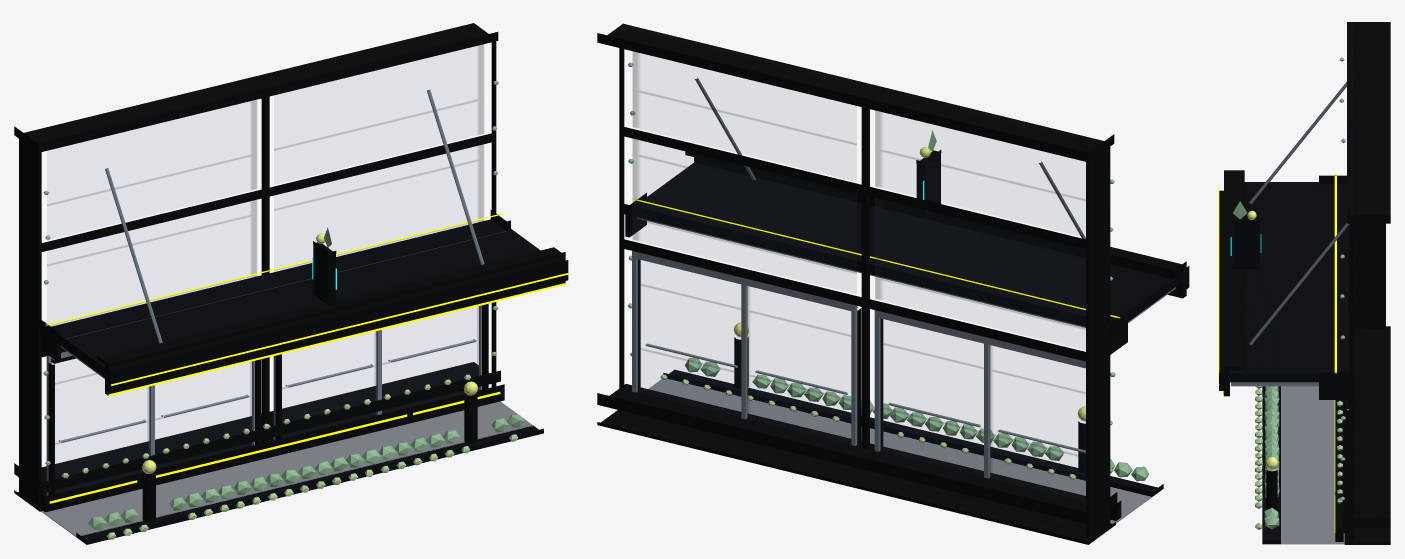
File: v4_green.glb
3 views of the same model, side by side, from view 1: azimuth 30°, elevation 25°; view 2: azimuth 150°, elevation 25°; view 3: azimuth 270°, elevation 25° (orthographic). The views are drawn at different scales.
Visible parts, largest first — view 1: Frame, Canopy, Fascia_Gunmetal, Threshold_Mat, Hedge_Edge, Terrace_Kerb, Fascia_Slate, Court_Line_LED, Door_Stiles, Tie_Rods, Glass_Upper_00, Glass_Upper_10 (+8 smaller); view 2: Frame, Canopy, Door_Stiles, Threshold_Mat, Terrace_Kerb, Hedge_Edge, Fascia_Slate, Fascia_Gunmetal, Glass_Upper_10, Glass_Upper_00, Glass_Upper_11, Glass_Upper_01 (+10 smaller); view 3: Frame, Canopy, Threshold_Mat, Fascia_Gunmetal, Hedge_Edge, Terrace_Kerb, Tie_Rods, Blade_Core, Court_Line_LED, Hedge_Edge_Light, Ball_Bollards, Canopy_Soffit (+3 smaller).
Boxes of the visible parts, x1,y1,x2,y2 form: Frame: (14, 23, 504, 512); Canopy: (39, 210, 540, 377); Fascia_Gunmetal: (96, 247, 568, 391); Threshold_Mat: (41, 401, 533, 536); Hedge_Edge: (88, 414, 524, 530); Terrace_Kerb: (76, 425, 543, 544); Fascia_Slate: (105, 255, 565, 395); Court_Line_LED: (45, 213, 568, 396); Door_Stiles: (46, 305, 481, 495); Tie_Rods: (105, 89, 484, 343); Glass_Upper_00: (47, 200, 256, 325); Glass_Upper_10: (274, 144, 483, 270); Frame: (597, 23, 1121, 544); Canopy: (624, 162, 1182, 354); Door_Stiles: (632, 251, 1085, 478); Threshold_Mat: (648, 379, 1152, 523); Terrace_Kerb: (663, 369, 1163, 496); Hedge_Edge: (685, 357, 1148, 481); Fascia_Slate: (694, 157, 1186, 298); Fascia_Gunmetal: (685, 151, 1189, 288); Glass_Upper_10: (632, 139, 856, 273); Glass_Upper_00: (875, 198, 1085, 330); Glass_Upper_11: (632, 51, 856, 145); Glass_Upper_01: (875, 111, 1085, 201); Frame: (1335, 22, 1390, 544); Canopy: (1229, 175, 1348, 399); Threshold_Mat: (1281, 386, 1344, 544); Fascia_Gunmetal: (1219, 170, 1244, 390); Hedge_Edge: (1264, 386, 1279, 529); Terrace_Kerb: (1262, 386, 1281, 544); Tie_Rods: (1249, 82, 1349, 345); Blade_Core: (1234, 224, 1258, 265); Court_Line_LED: (1218, 173, 1336, 396); Hedge_Edge_Light: (1255, 386, 1262, 529); Ball_Bollards: (1266, 470, 1277, 511); Canopy_Soffit: (1231, 382, 1318, 386).
Size of what is drawn, in the model's own units: 8 by 6.1 by 2.89.
Materials: 11 (5 with a texture image).
